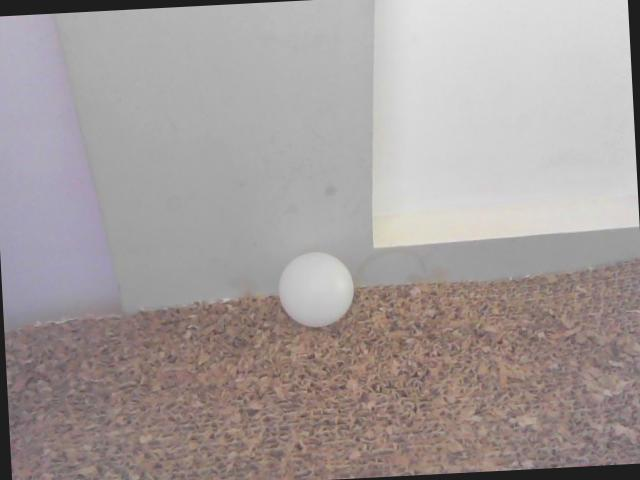ball: (274, 252, 357, 329)
